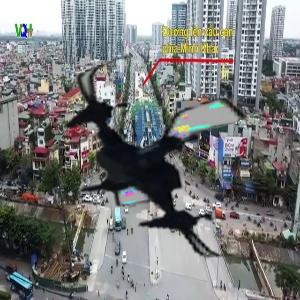drone: (47, 51, 267, 271)
